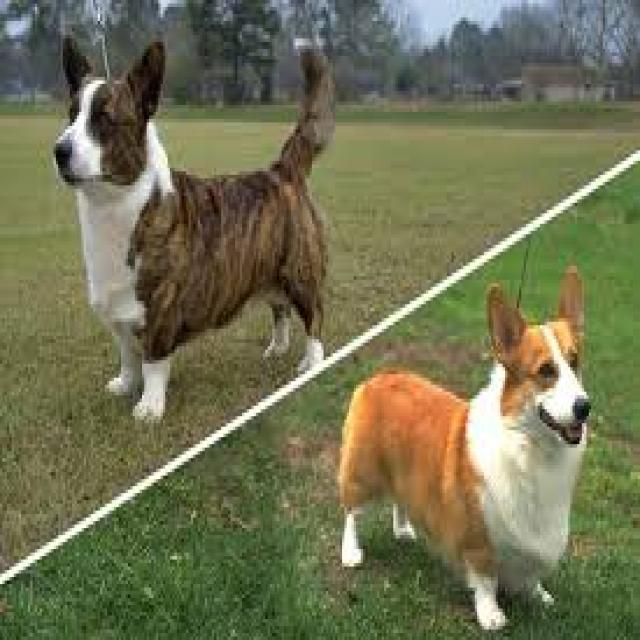CORGI: (52, 18, 348, 434), (337, 260, 600, 632)
